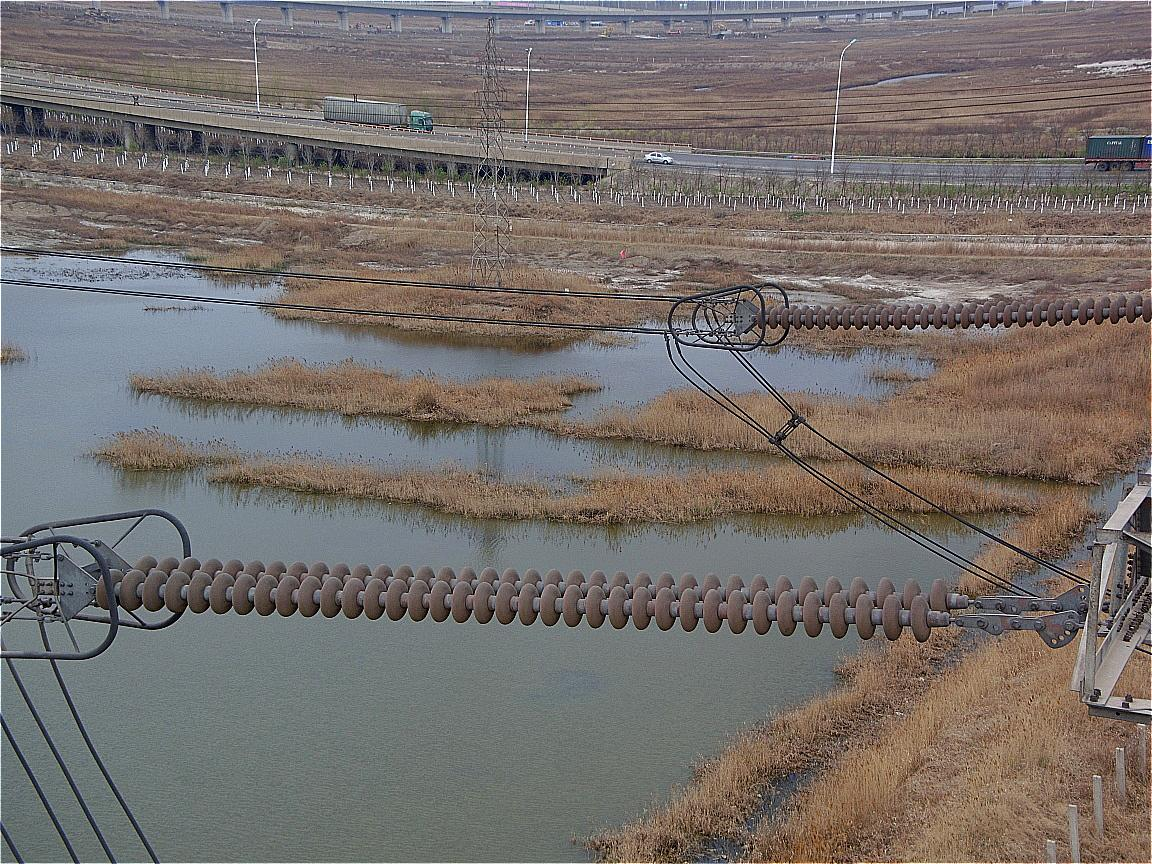insultor1: (98, 557, 954, 643), (756, 295, 1149, 330)
